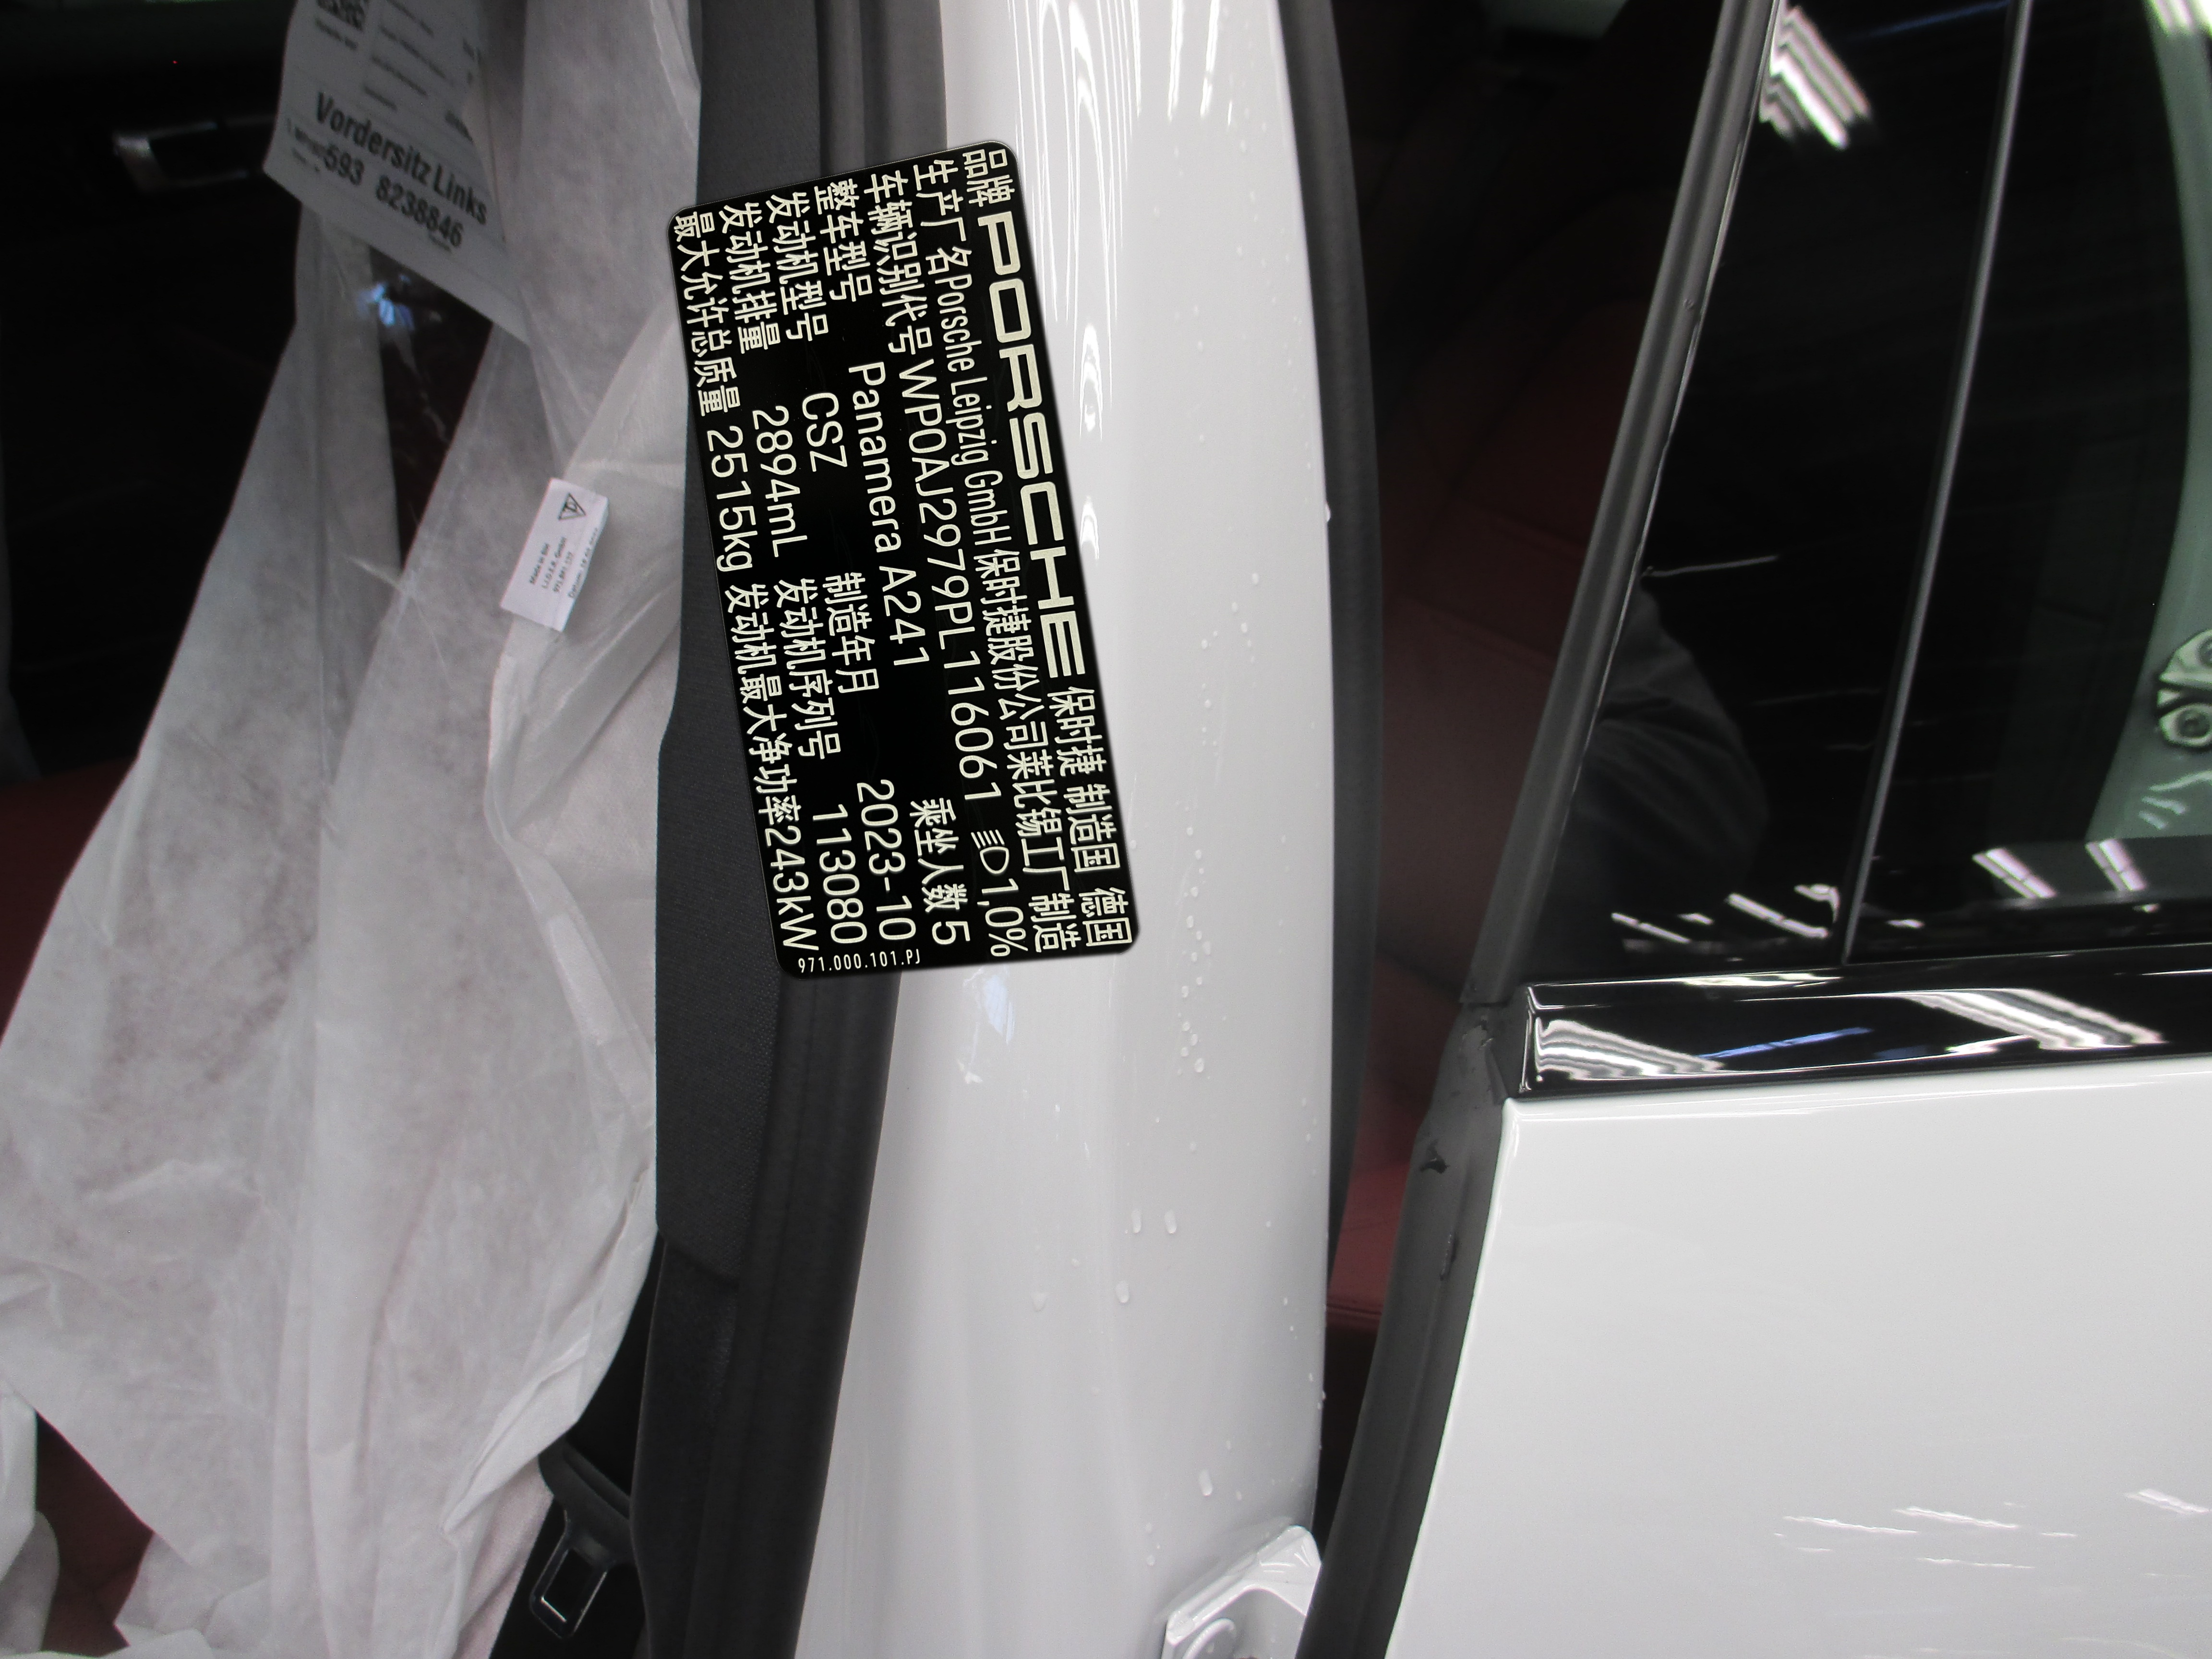Typlabel-China: (667, 141, 1139, 979)
